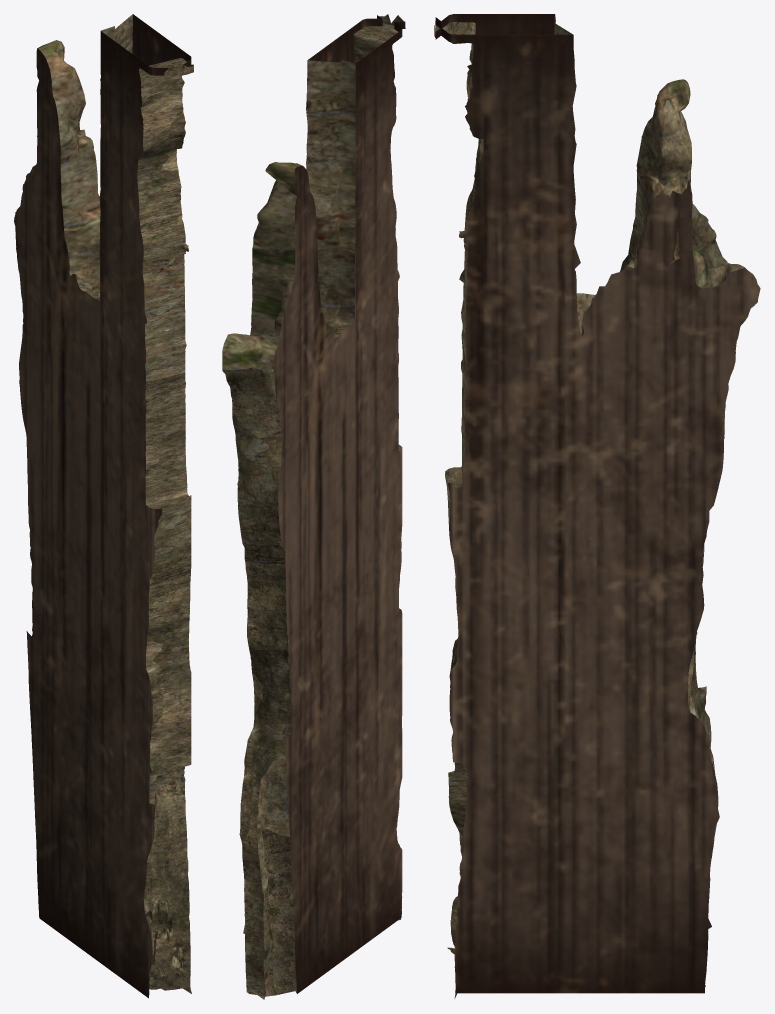
File: SM_WoodenBroken_01.fbx
3 views of the same model, side by side, from view 1: azimuth 30°, elevation 25°; view 2: azimuth 150°, elevation 25°; view 3: azimuth 270°, elevation 25° (orthographic). The views are drawn at different scales.
Parts seen in each view (by area): view 1: SM_WoodenBroken_01_LOD0; view 2: SM_WoodenBroken_01_LOD0; view 3: SM_WoodenBroken_01_LOD0.
Part boxes in pixels (x1=…): SM_WoodenBroken_01_LOD0: x1=14, y1=14, x2=193, y2=998; SM_WoodenBroken_01_LOD0: x1=222, y1=14, x2=405, y2=999; SM_WoodenBroken_01_LOD0: x1=434, y1=14, x2=760, y2=998.
Bounding box in the file's own units: 10.29 × 66.19 × 217.
